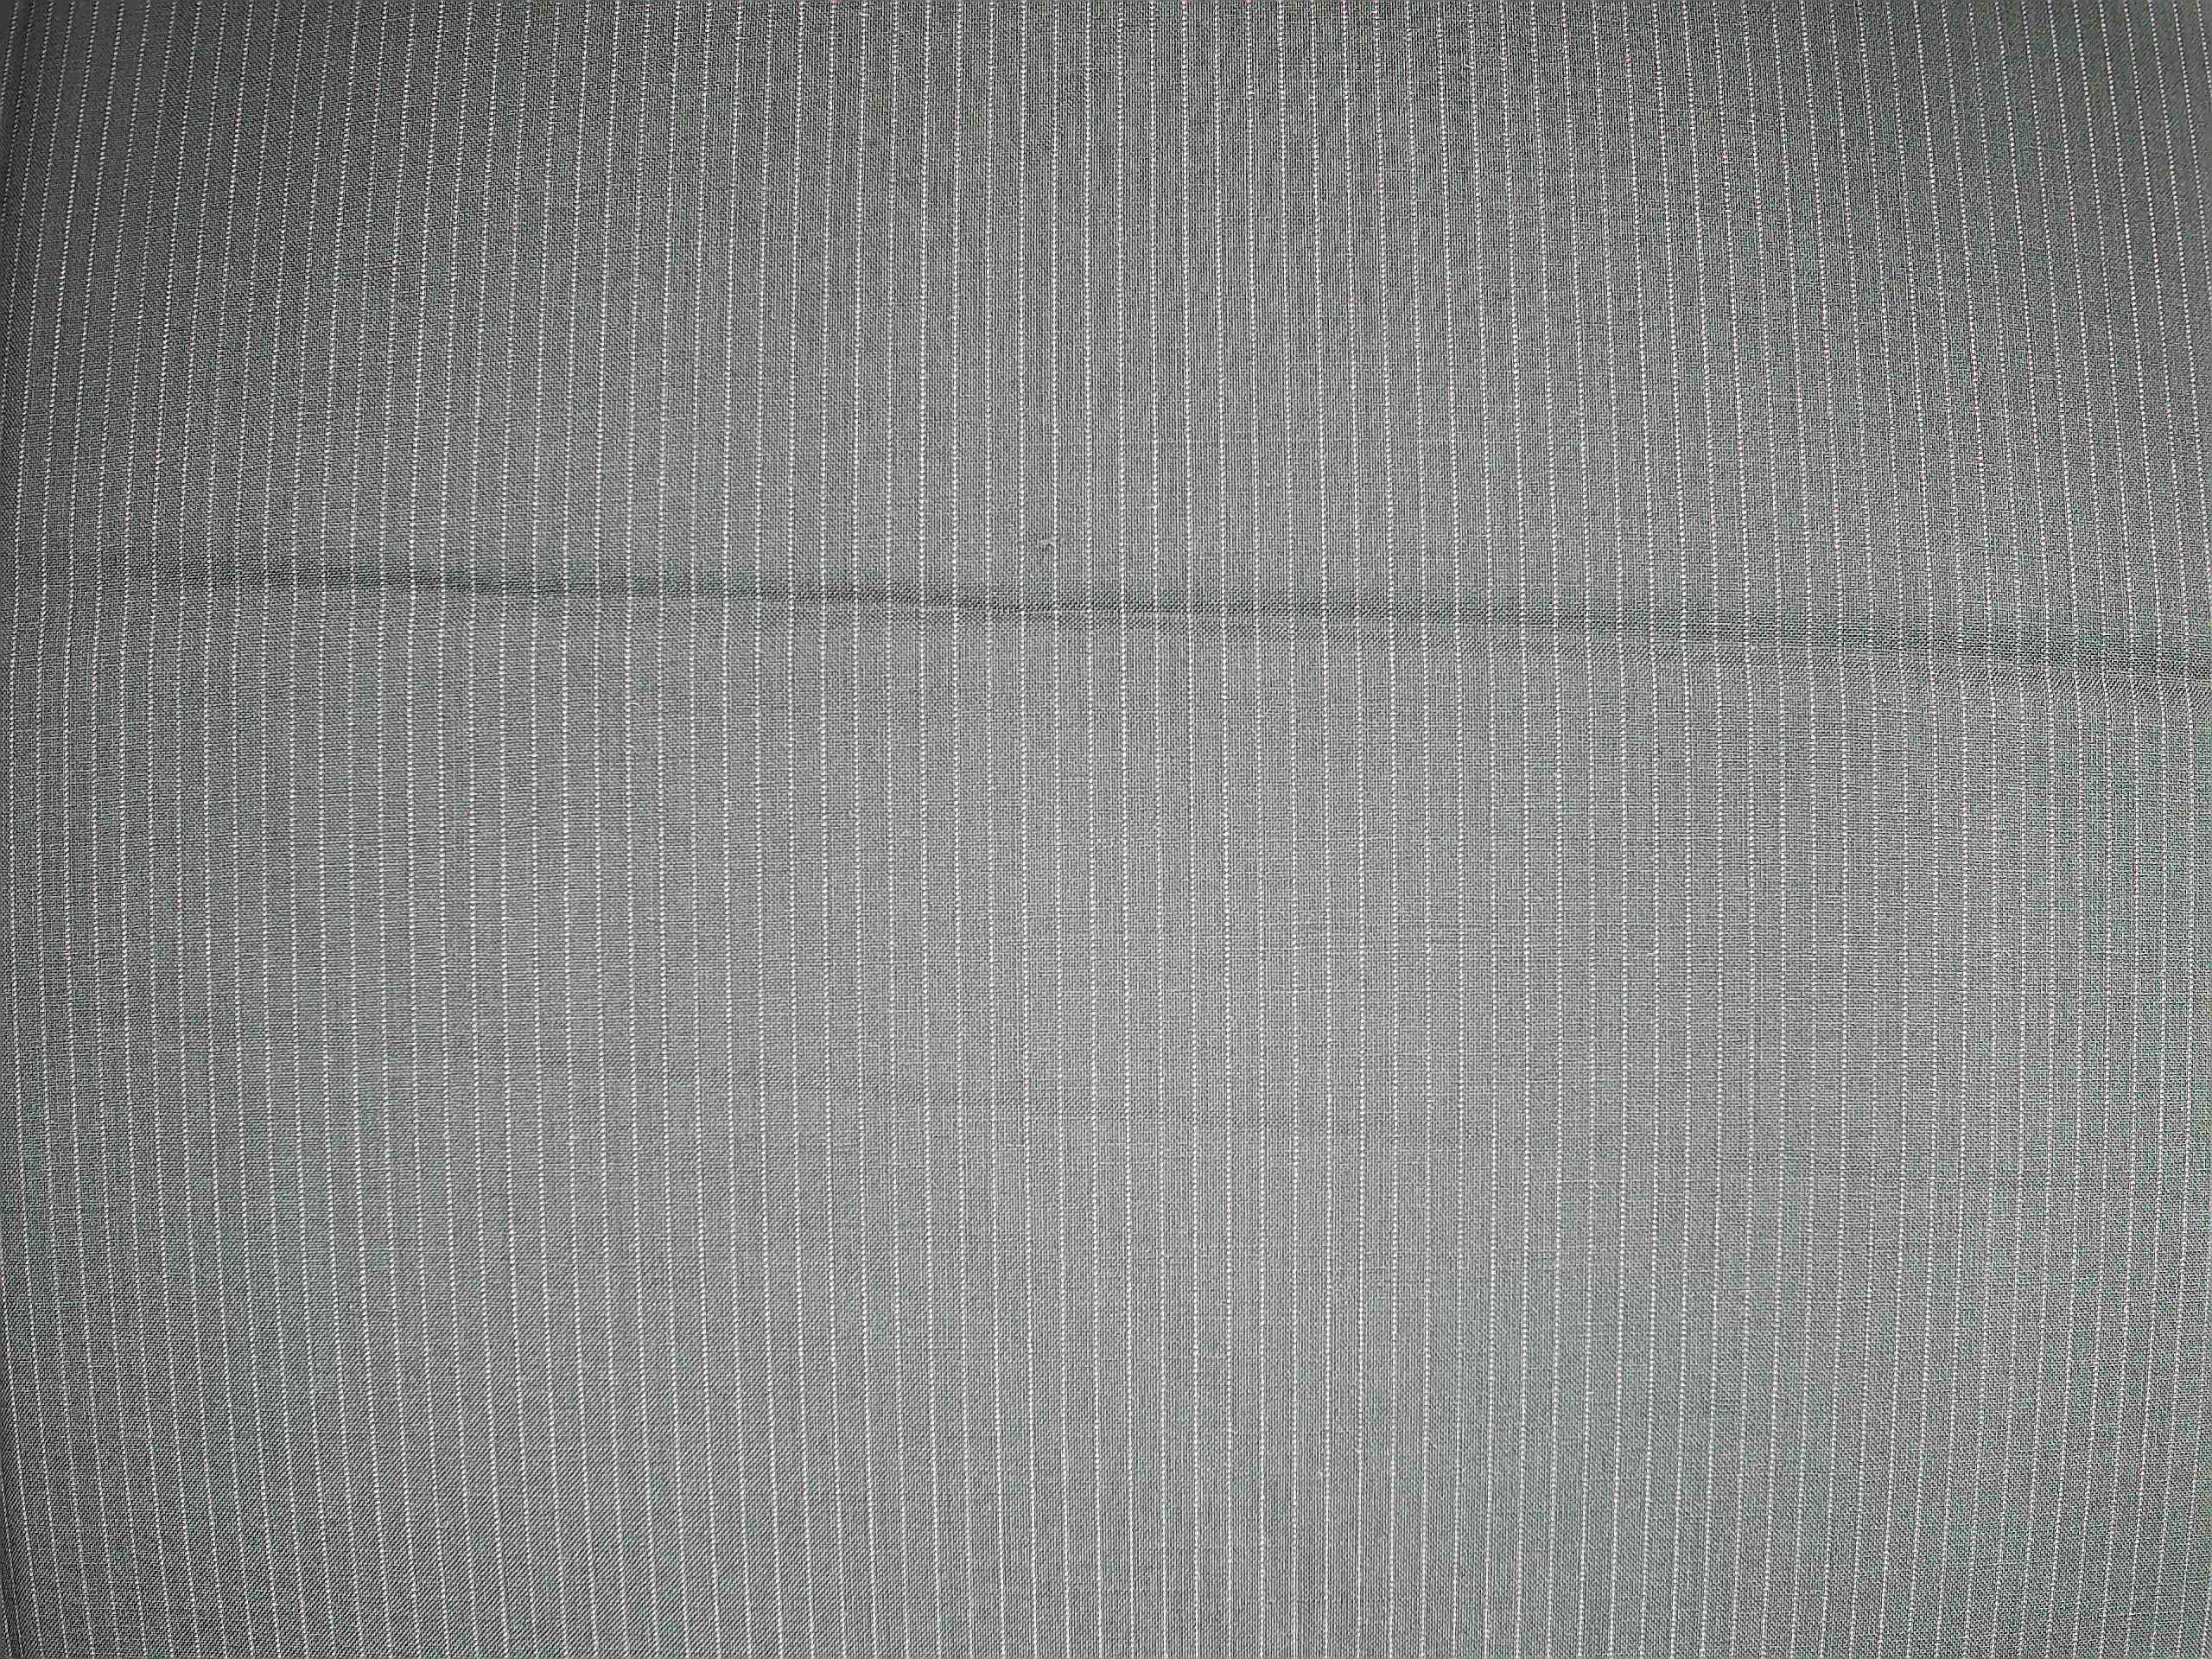others: (1022, 505, 1075, 579)
